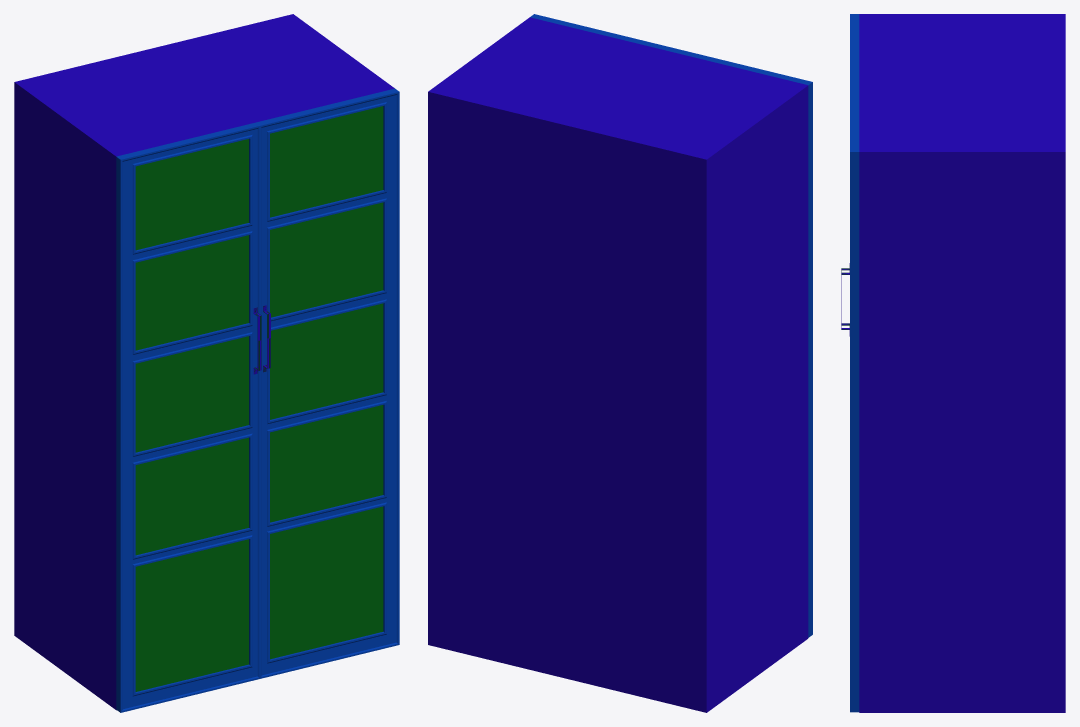
The model's file is ASHISH_CABINET1.FBX.
3 views of the same model, side by side, from view 1: azimuth 30°, elevation 25°; view 2: azimuth 150°, elevation 25°; view 3: azimuth 270°, elevation 25° (orthographic).
Visible parts, largest first — view 1: ChamferBox013, LEFT DOOR, LEFT DOOR001; view 2: ChamferBox013, LEFT DOOR, LEFT DOOR001; view 3: ChamferBox013, LEFT DOOR001, LEFT DOOR.
Boxes of the visible parts, x1,y1,x2,y2 form: ChamferBox013: [14, 14, 394, 710]; LEFT DOOR: [116, 122, 261, 712]; LEFT DOOR001: [256, 88, 399, 678]; ChamferBox013: [428, 17, 808, 712]; LEFT DOOR: [669, 48, 812, 637]; LEFT DOOR001: [530, 14, 673, 50]; ChamferBox013: [859, 14, 1065, 712]; LEFT DOOR001: [841, 83, 859, 712]; LEFT DOOR: [841, 14, 859, 327].
Bounding box in the file's own units: 25889 × 49110 × 17779.
